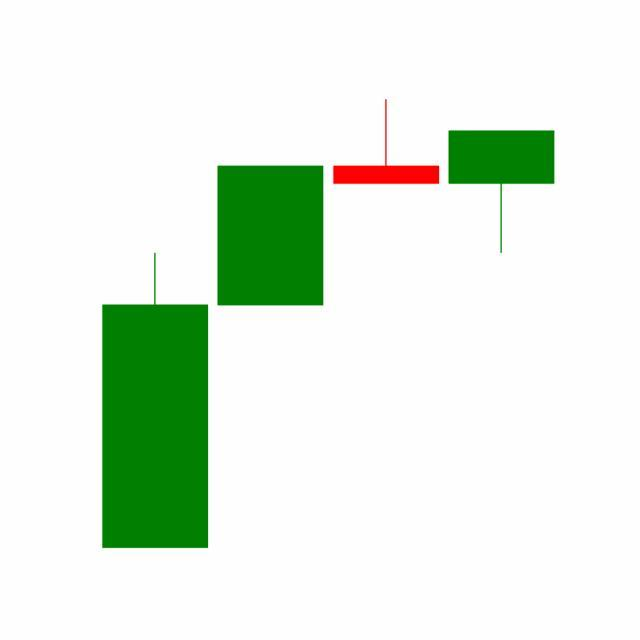Hammer: (444, 129, 560, 255)
